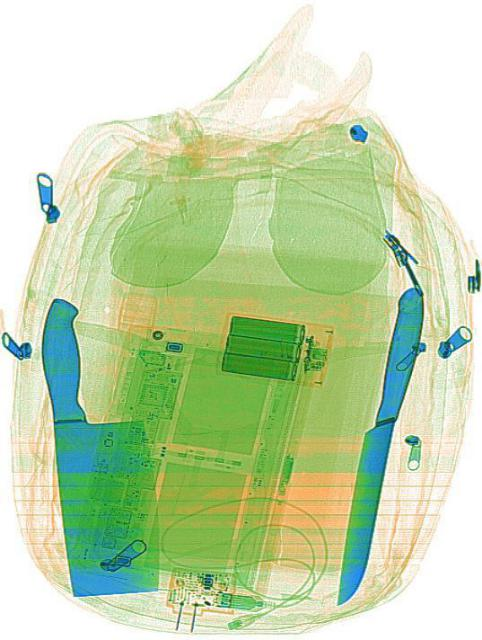Knife: (33, 282, 160, 604), (323, 280, 428, 610)
